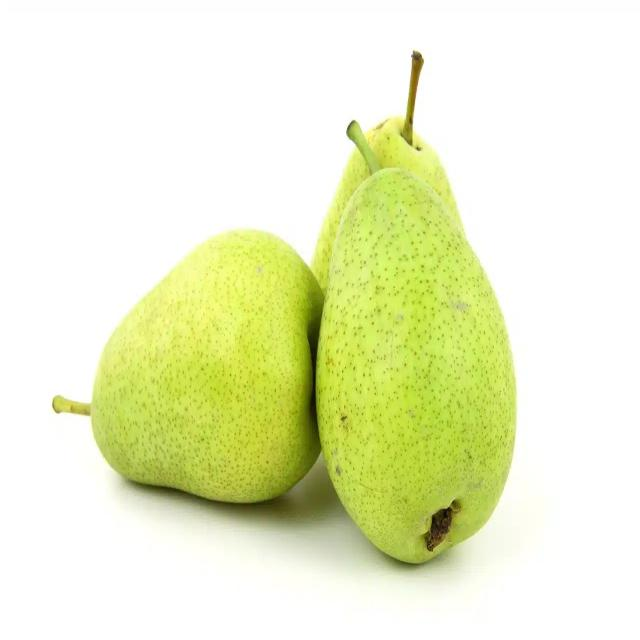pera: (288, 116, 546, 596), (43, 221, 340, 545)
